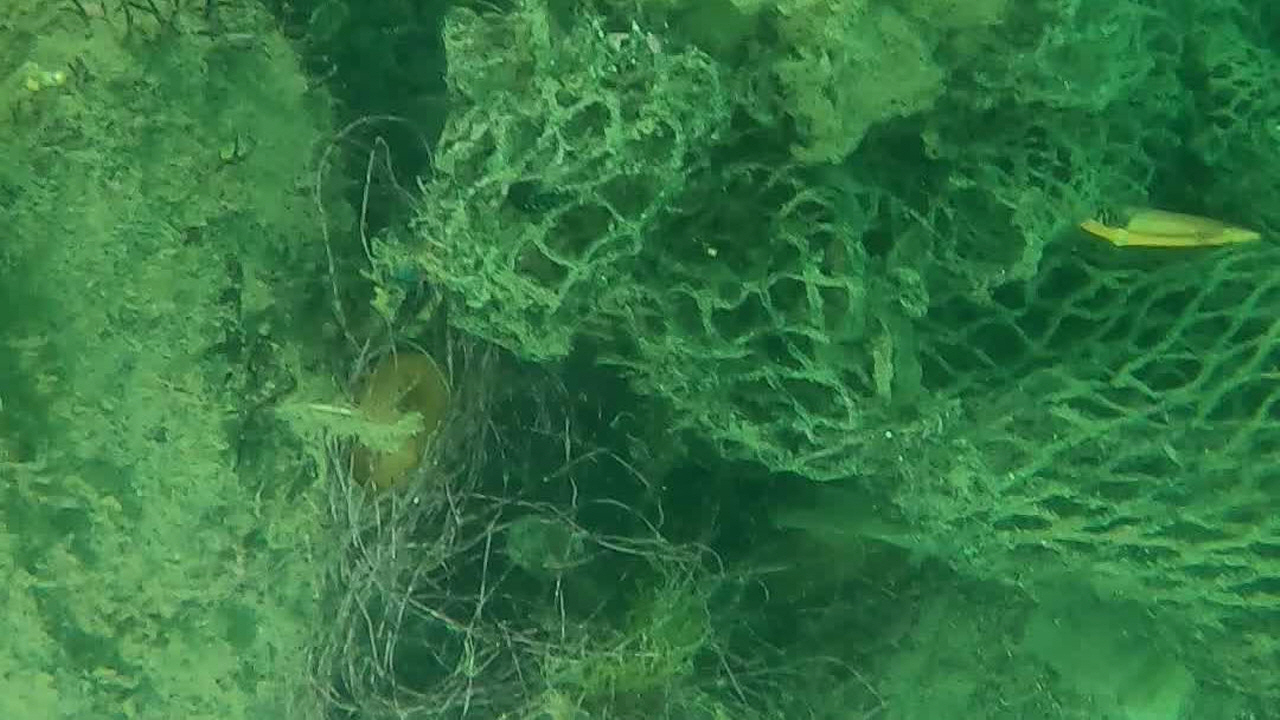fish net: (425, 0, 1280, 615)
